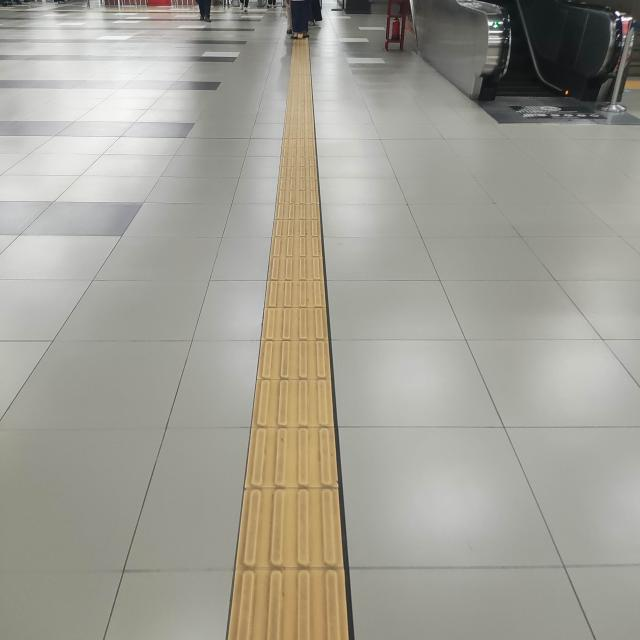lurus: (251, 63, 357, 640)
